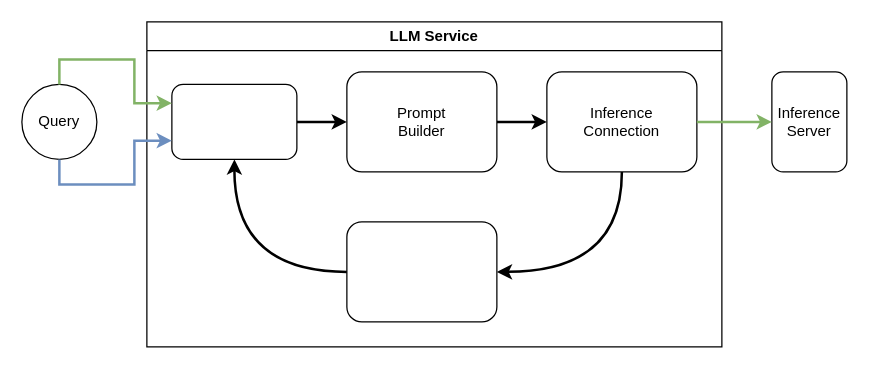
Some shapes in this 869 by 369 pixel diagram are drawn without their labels. Each missing label, with the centre of its shape:
HTTP / gRPC Endpoint: point 234,121
Response Builder: point 421,271
